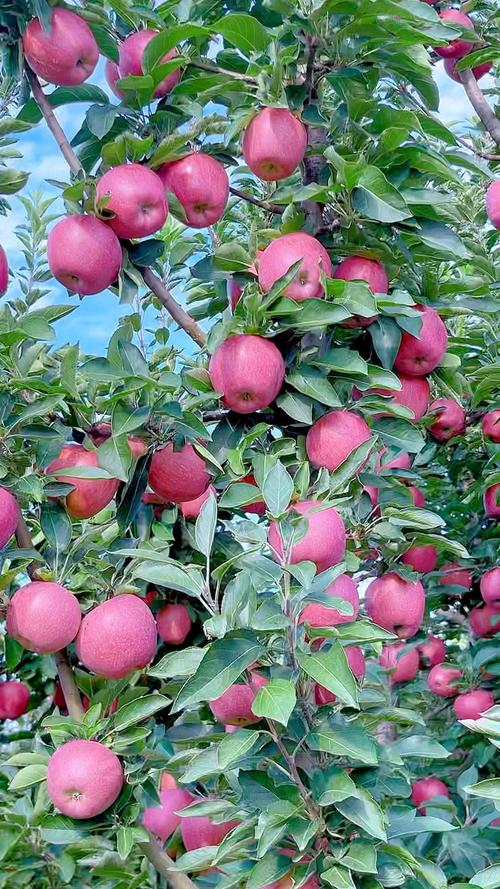ripe: (29, 728, 129, 821), (73, 585, 163, 687), (193, 331, 290, 420), (236, 225, 331, 308), (254, 492, 352, 572), (34, 204, 120, 295), (0, 565, 84, 658), (9, 0, 109, 77), (84, 161, 177, 240), (154, 150, 231, 238), (229, 107, 311, 184), (363, 569, 440, 646), (386, 297, 445, 381)
